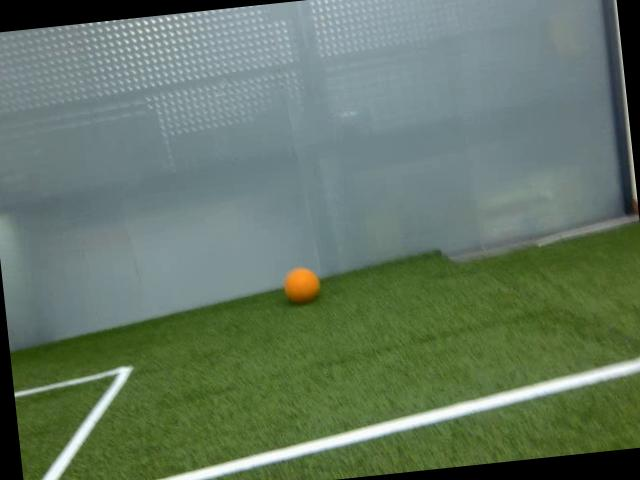orange_ball: (280, 264, 323, 306)
